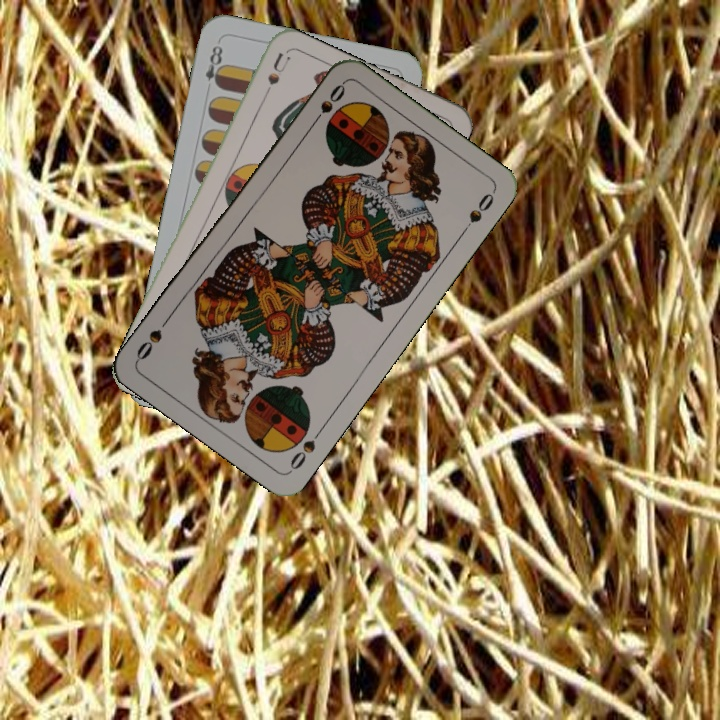E8: (201, 41, 227, 90)
SO: (306, 79, 348, 130), (286, 423, 326, 474)
SU: (256, 49, 291, 107)
